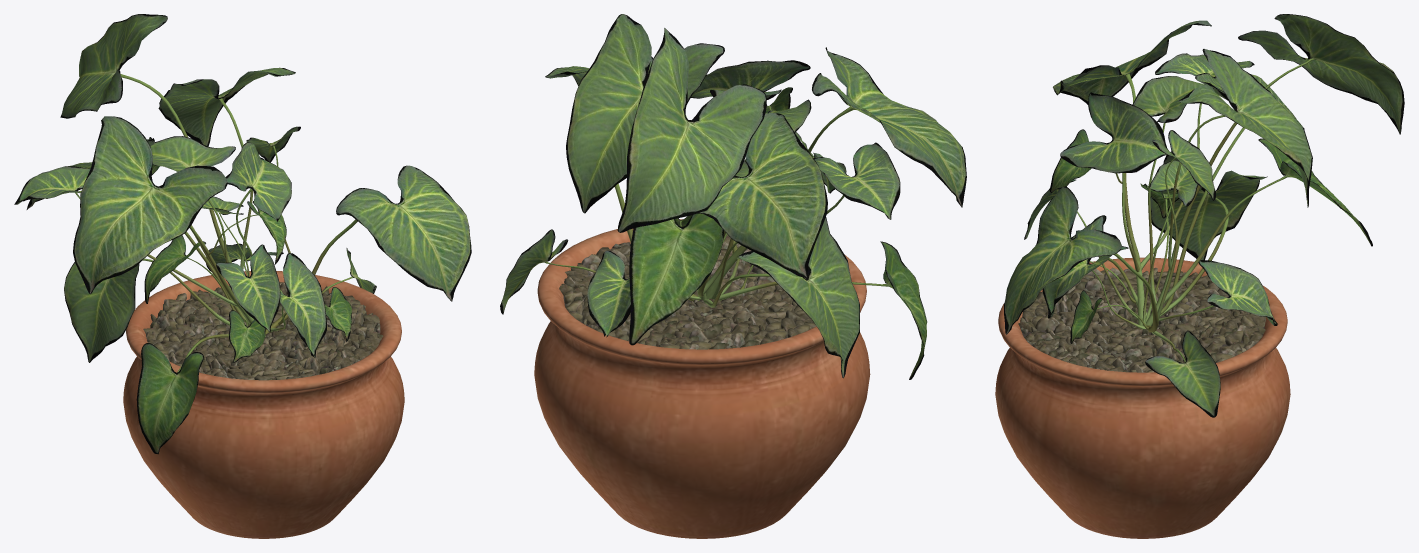
Rendered from potted_plant_02.glb.
The picture shows the model from 3 angles, left to right: view 1: azimuth 30°, elevation 25°; view 2: azimuth 150°, elevation 25°; view 3: azimuth 270°, elevation 25°; orthographic projection. The views are drawn at different scales.
Visible parts, largest first — view 1: potted_plant_02_leaves, potted_plant_02_pot, potted_plant_02_dirt; view 2: potted_plant_02_leaves, potted_plant_02_pot, potted_plant_02_dirt; view 3: potted_plant_02_leaves, potted_plant_02_pot, potted_plant_02_dirt.
Boxes of the visible parts, bbox=[...] form: potted_plant_02_leaves: bbox=[14, 14, 471, 454]; potted_plant_02_pot: bbox=[123, 271, 404, 538]; potted_plant_02_dirt: bbox=[143, 282, 383, 380]; potted_plant_02_leaves: bbox=[500, 14, 966, 379]; potted_plant_02_pot: bbox=[534, 219, 870, 538]; potted_plant_02_dirt: bbox=[559, 234, 816, 349]; potted_plant_02_leaves: bbox=[1004, 14, 1404, 417]; potted_plant_02_pot: bbox=[995, 257, 1290, 538]; potted_plant_02_dirt: bbox=[1018, 267, 1265, 372].
Size of the model in its own units: 0.7012 by 0.8413 by 0.6574.
Materials: 2 (2 with a texture image).
